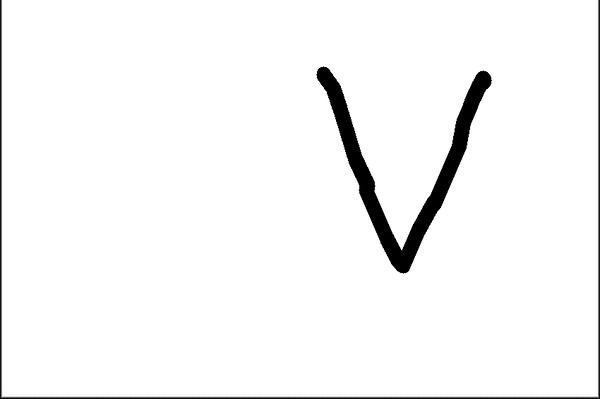V: (312, 51, 495, 282)
